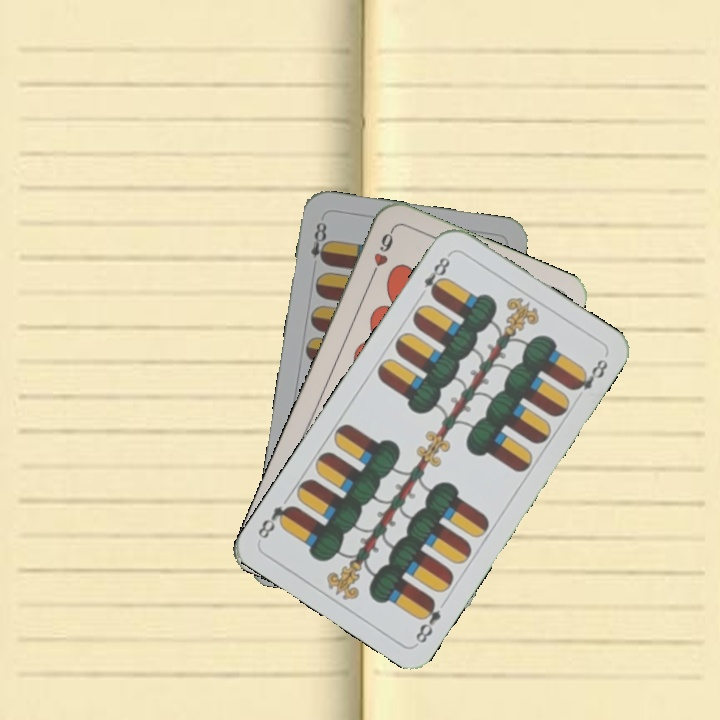E8: (414, 249, 454, 301), (411, 594, 444, 646), (306, 214, 332, 267)
H9: (366, 225, 397, 281)
